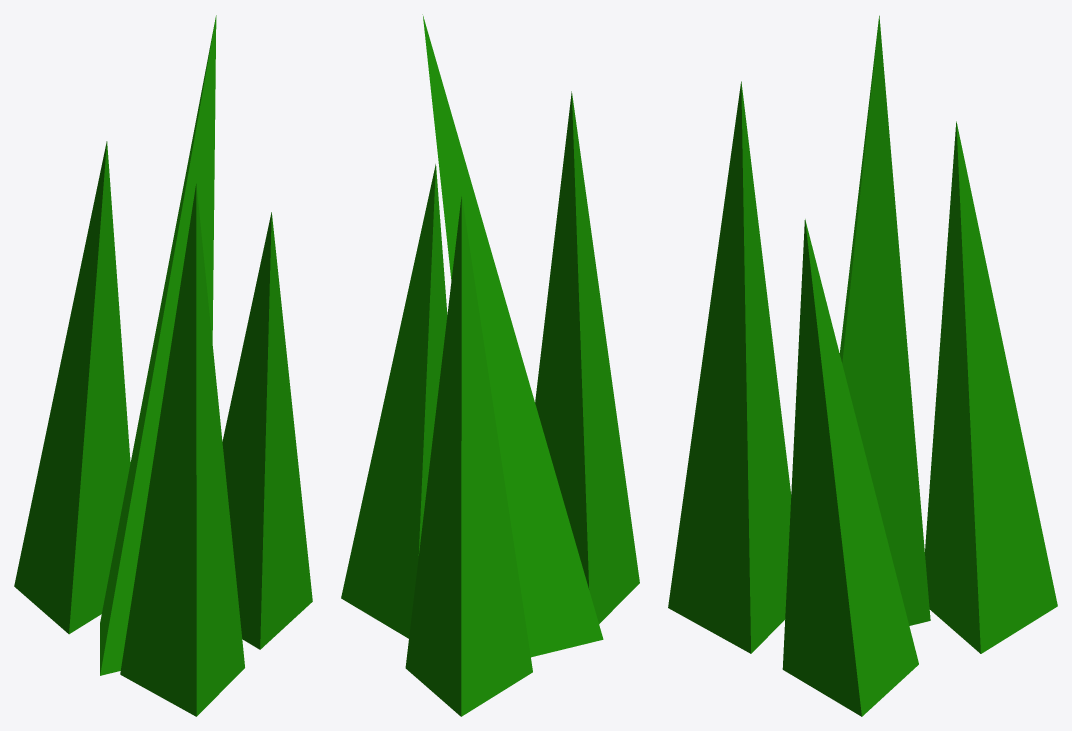
File: Grass.fbx
3 views of the same model, side by side, from view 1: azimuth 30°, elevation 25°; view 2: azimuth 150°, elevation 25°; view 3: azimuth 270°, elevation 25° (orthographic). The views are drawn at different scales.
Parts seen in each view (by area): view 1: Cone; view 2: Cone; view 3: Cone.
Boxes of the visible parts, box(x1,y1,x2,y2) form: Cone: box(14, 15, 312, 716); Cone: box(341, 14, 639, 716); Cone: box(668, 15, 1057, 716).
Bounding box in the file's own units: 25.29 × 61.85 × 33.32.
